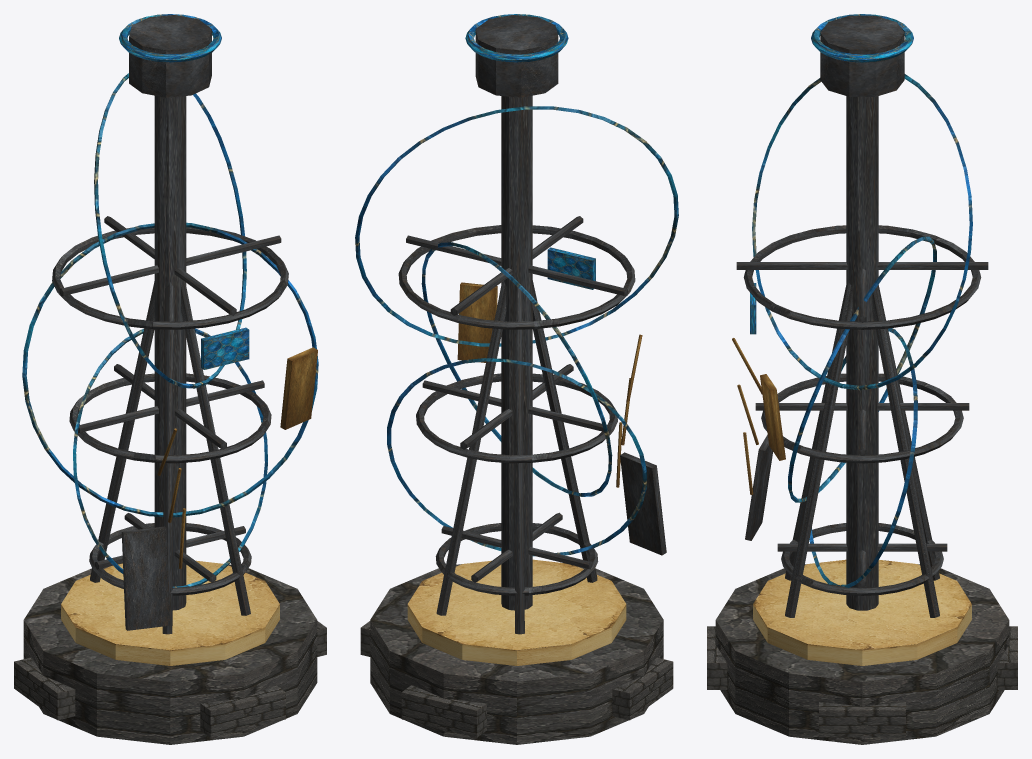
Rendered from signal-relay-body.glb.
3 renders of one model, left to right at view 1: azimuth 30°, elevation 25°; view 2: azimuth 150°, elevation 25°; view 3: azimuth 270°, elevation 25°, orthographic.
Visible parts, largest first — view 1: signal_relay_body_landmark; view 2: signal_relay_body_landmark; view 3: signal_relay_body_landmark.
Part boxes in pixels (x1=…): signal_relay_body_landmark: x1=14, y1=14, x2=326, y2=744; signal_relay_body_landmark: x1=355, y1=14, x2=678, y2=744; signal_relay_body_landmark: x1=707, y1=14, x2=1017, y2=744.
Size of the model in its own units: 2.5 by 5.77 by 2.5.
7 materials, 7 textured.
